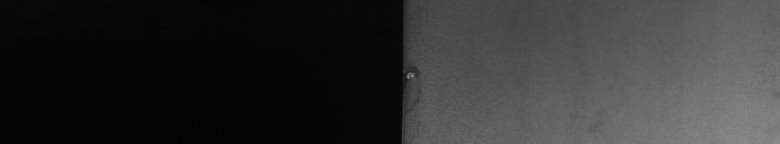hb: (412, 60, 424, 110)
